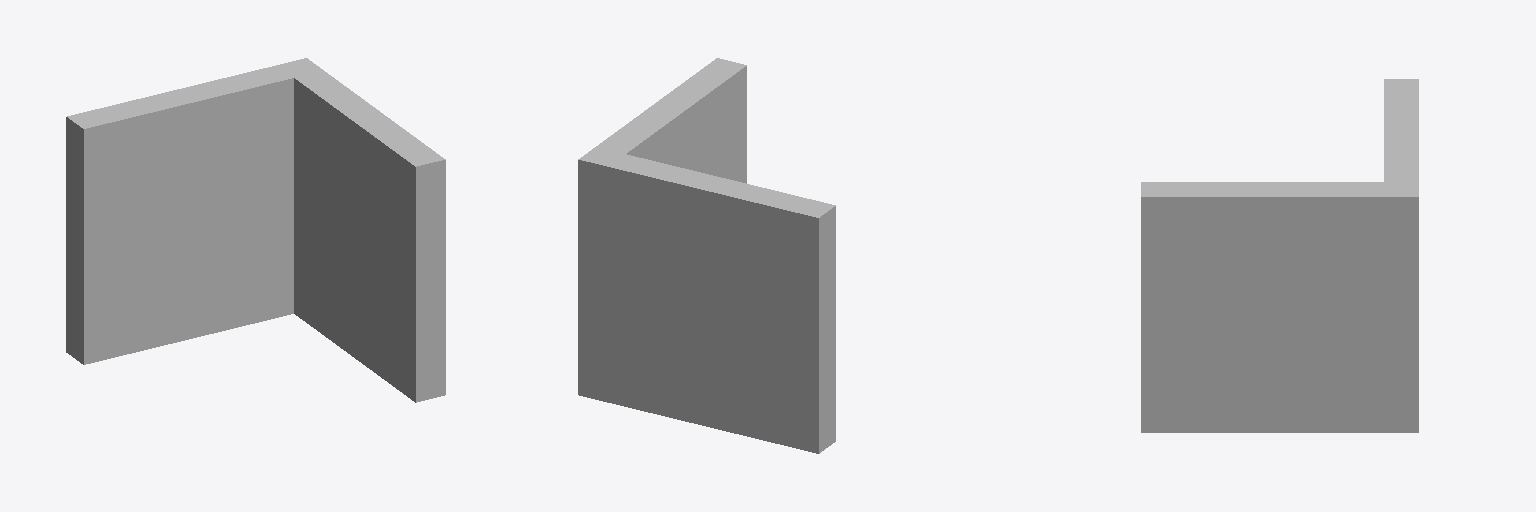
The model's file is WallCorner.obj.
3 renders of one model, left to right at view 1: azimuth 30°, elevation 25°; view 2: azimuth 150°, elevation 25°; view 3: azimuth 270°, elevation 25°, orthographic.
Visible parts, largest first — view 1: WallCorner; view 2: WallCorner; view 3: WallCorner.
Boxes of the visible parts, x1,y1,x2,y2 form: WallCorner: [66, 58, 445, 402]; WallCorner: [578, 58, 835, 453]; WallCorner: [1141, 79, 1418, 432].
Bounding box in the file's own units: 3.2 × 3 × 3.2.